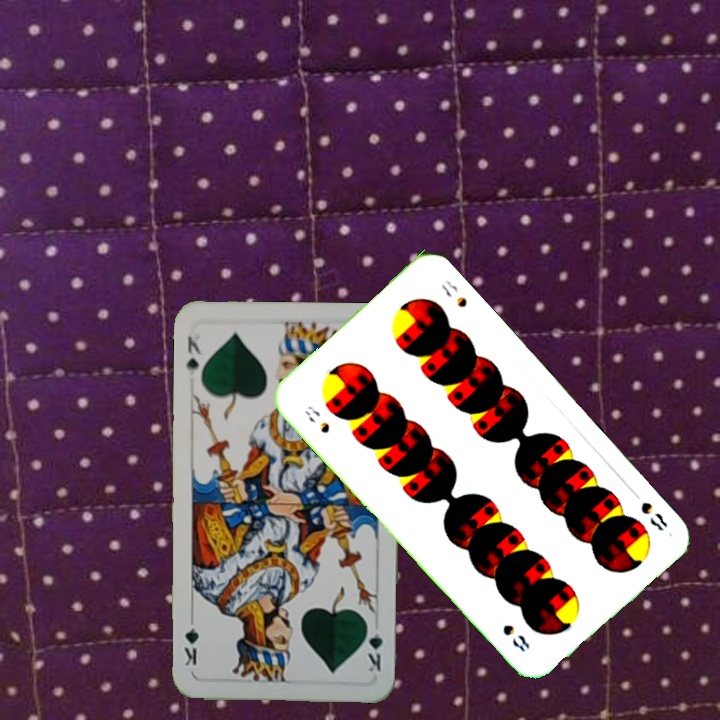GK: (362, 617, 385, 675), (182, 332, 203, 377)
S8: (636, 498, 671, 534), (300, 401, 332, 436)
